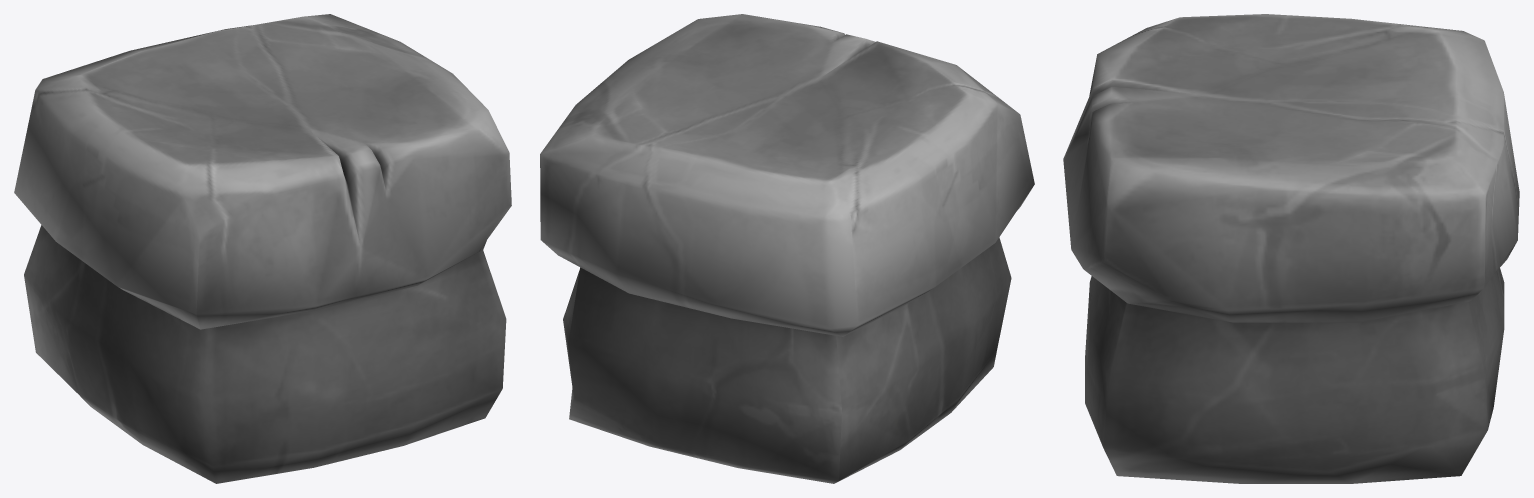
Rendered from Stone02.fbx.
3 renders of one model, left to right at view 1: azimuth 30°, elevation 25°; view 2: azimuth 150°, elevation 25°; view 3: azimuth 270°, elevation 25°, orthographic. The views are drawn at different scales.
Visible parts, largest first — view 1: Stone02; view 2: Stone02; view 3: Stone02.
Part boxes in pixels (box(x1,y1,x2,y2)): Stone02: box(14, 14, 511, 483); Stone02: box(540, 14, 1034, 483); Stone02: box(1063, 14, 1519, 483).
Bounding box in the file's own units: 1.47 × 1.15 × 1.48.
